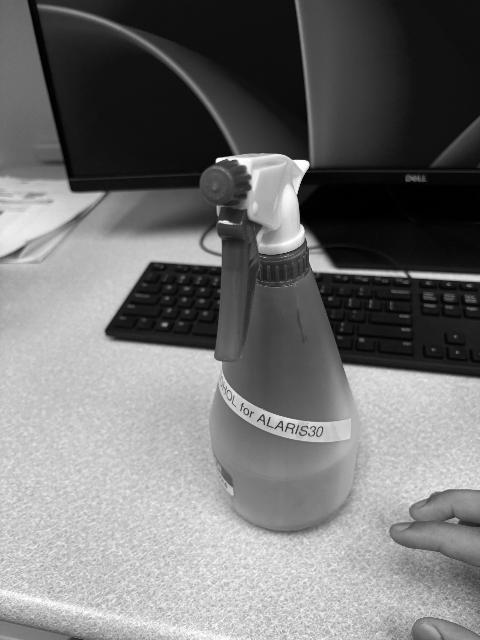AlcoholSpray: (198, 154, 360, 536)
